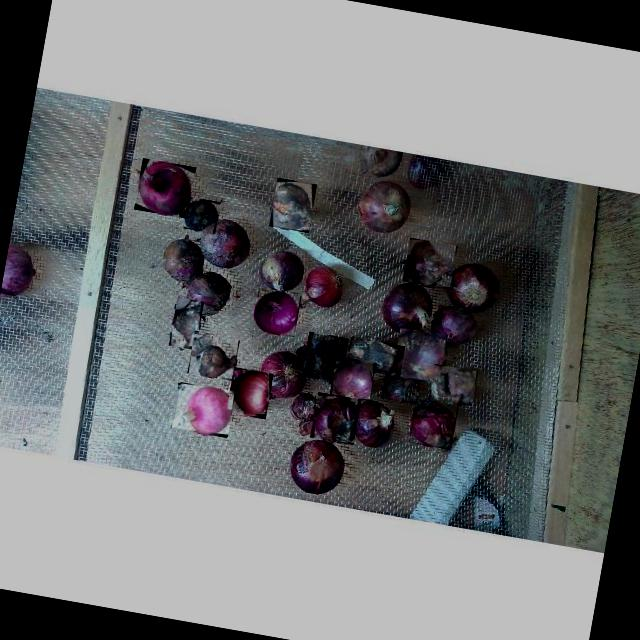healthy: (139, 161, 190, 215), (174, 389, 231, 433), (255, 291, 298, 333), (229, 371, 269, 415), (333, 361, 371, 398)
rotten: (394, 330, 443, 380), (411, 400, 455, 448), (406, 241, 452, 285), (190, 335, 236, 377), (314, 396, 356, 441), (273, 181, 312, 229), (304, 337, 344, 380), (351, 340, 400, 372), (431, 369, 474, 401), (172, 301, 200, 346), (349, 338, 392, 367), (185, 198, 218, 231), (383, 377, 418, 401)
